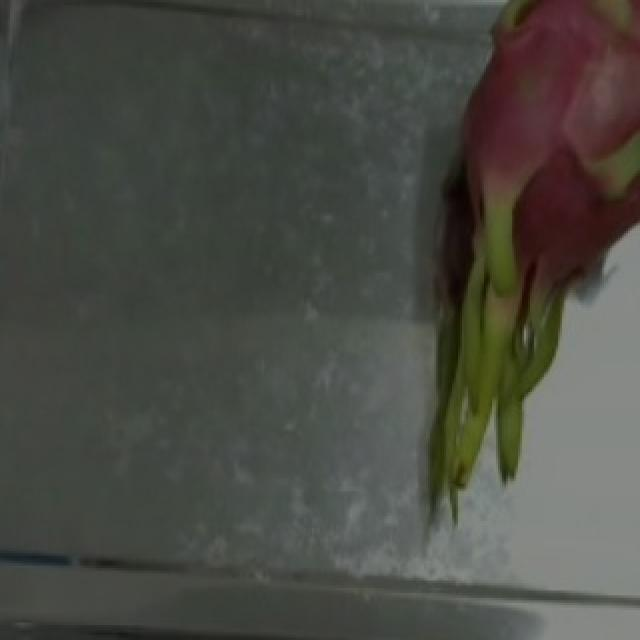fruit: (360, 5, 640, 461)
